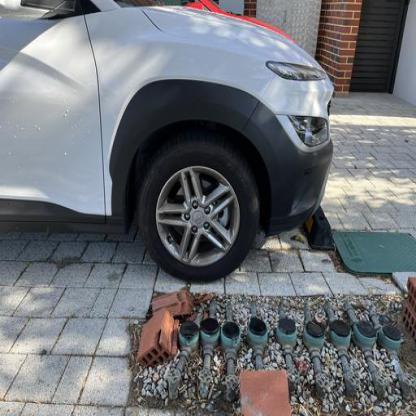Tire: (137, 138, 262, 284)
